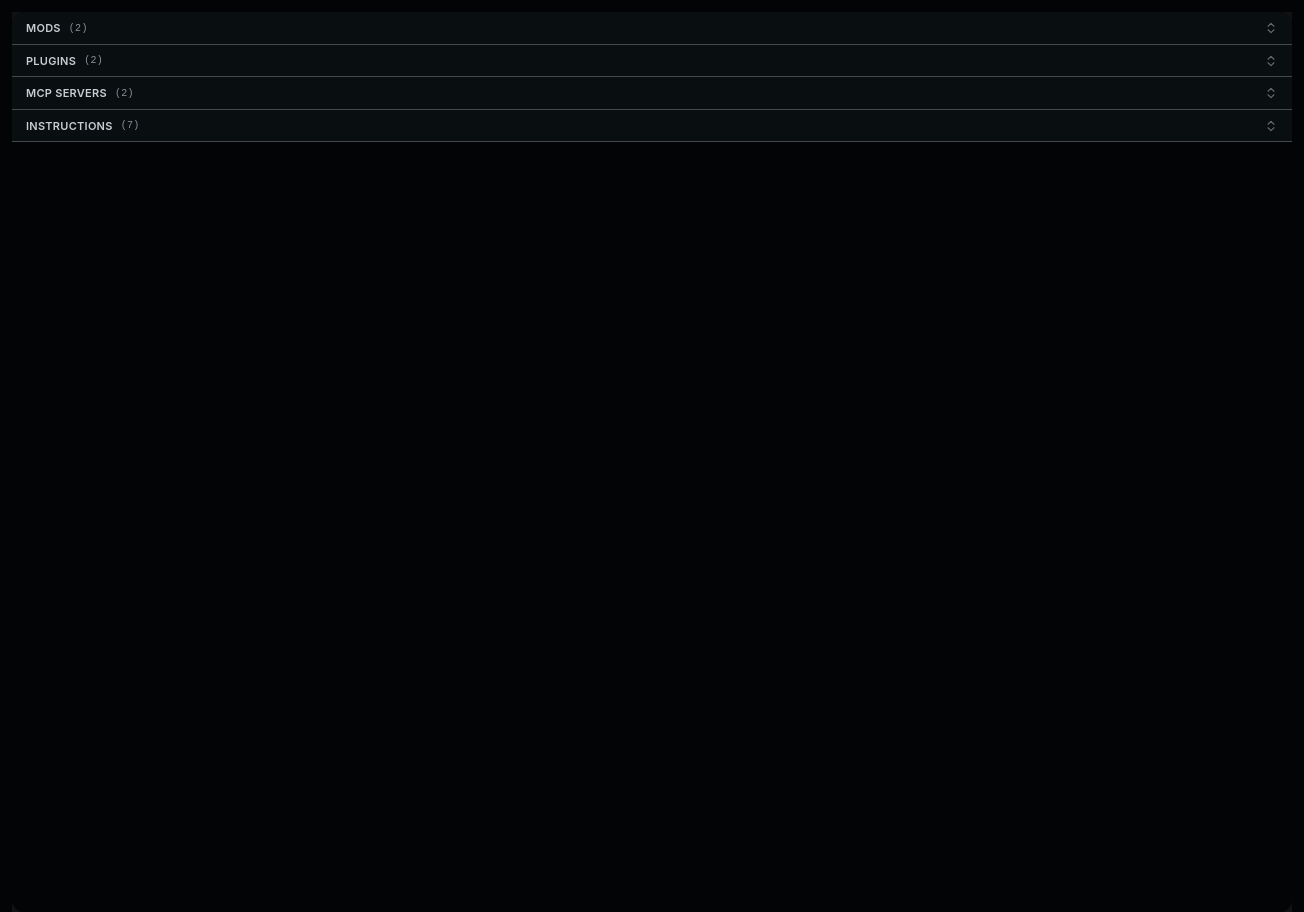
Test: SessionContextPanel › lists each mod once, under Mods, and not again under Plugins
Step 1. Click the button "Plugins (2)" → (51, 60), box 12,44 -> 1292,77
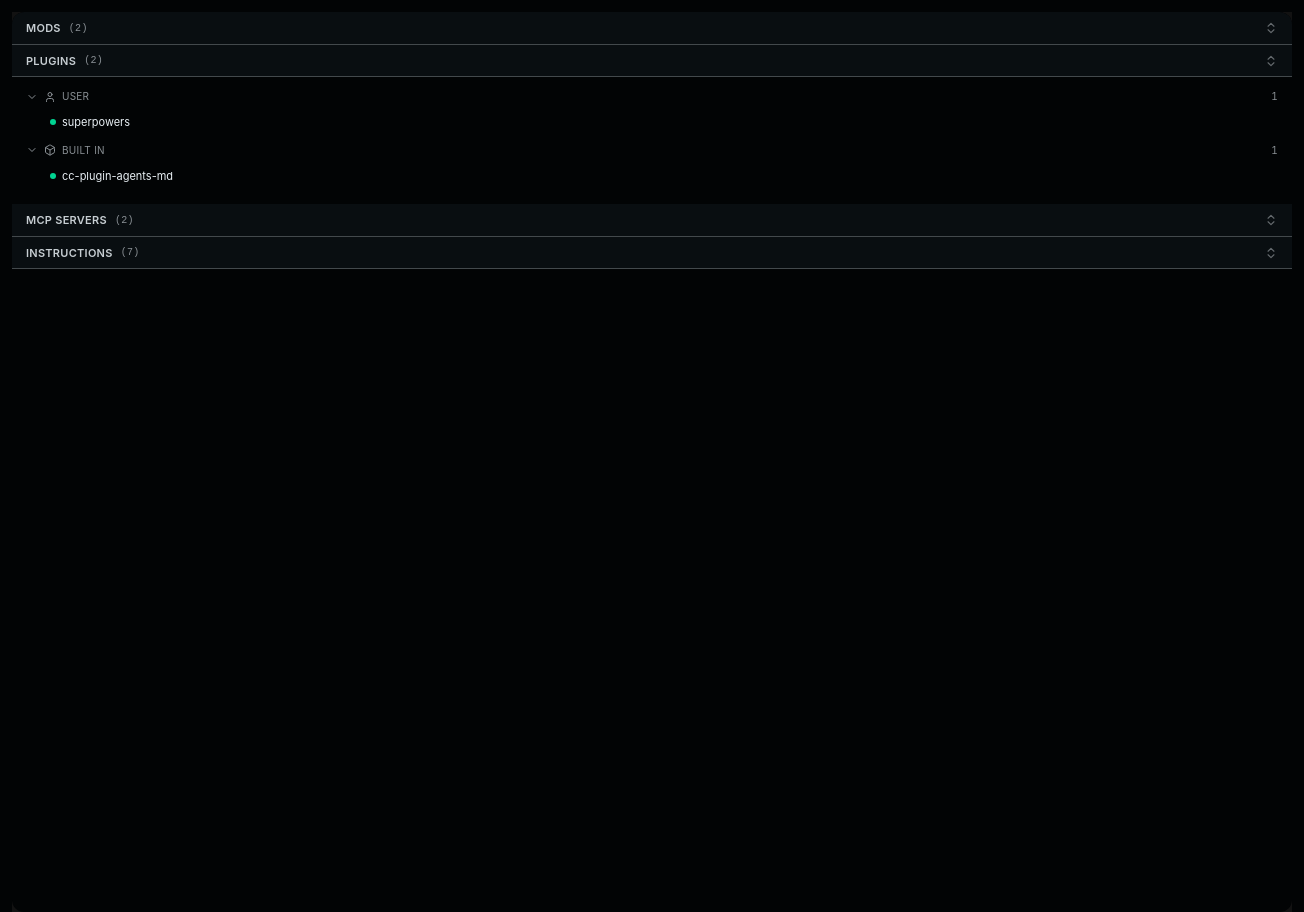
Step 2. Click the button "Mods (2)" → (43, 28), box 12,12 -> 1292,44
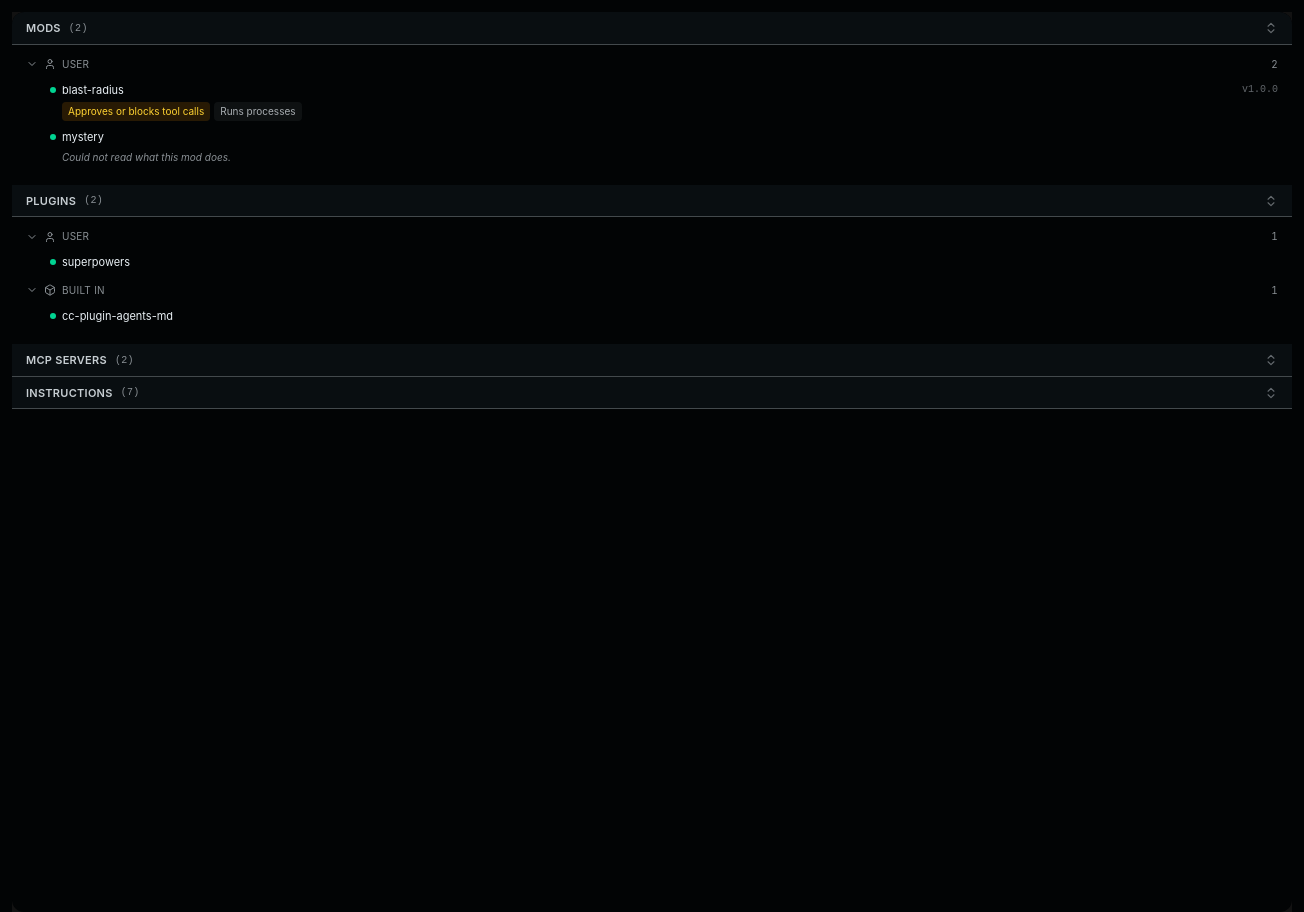
expect the text "superpowers" is shown: met, box 62,254 -> 130,270
expect the text "blast-radius" is shown: met, box 62,82 -> 124,98
